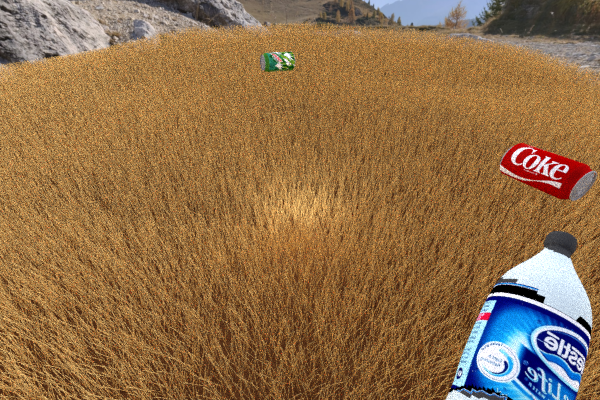Plastic Bottle: (408, 230, 592, 400), (499, 142, 597, 200), (259, 51, 295, 72)
